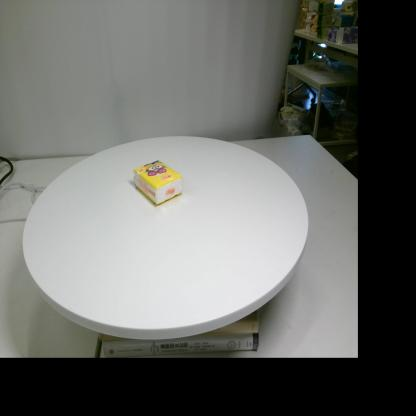Tissue: (134, 160, 184, 205)
